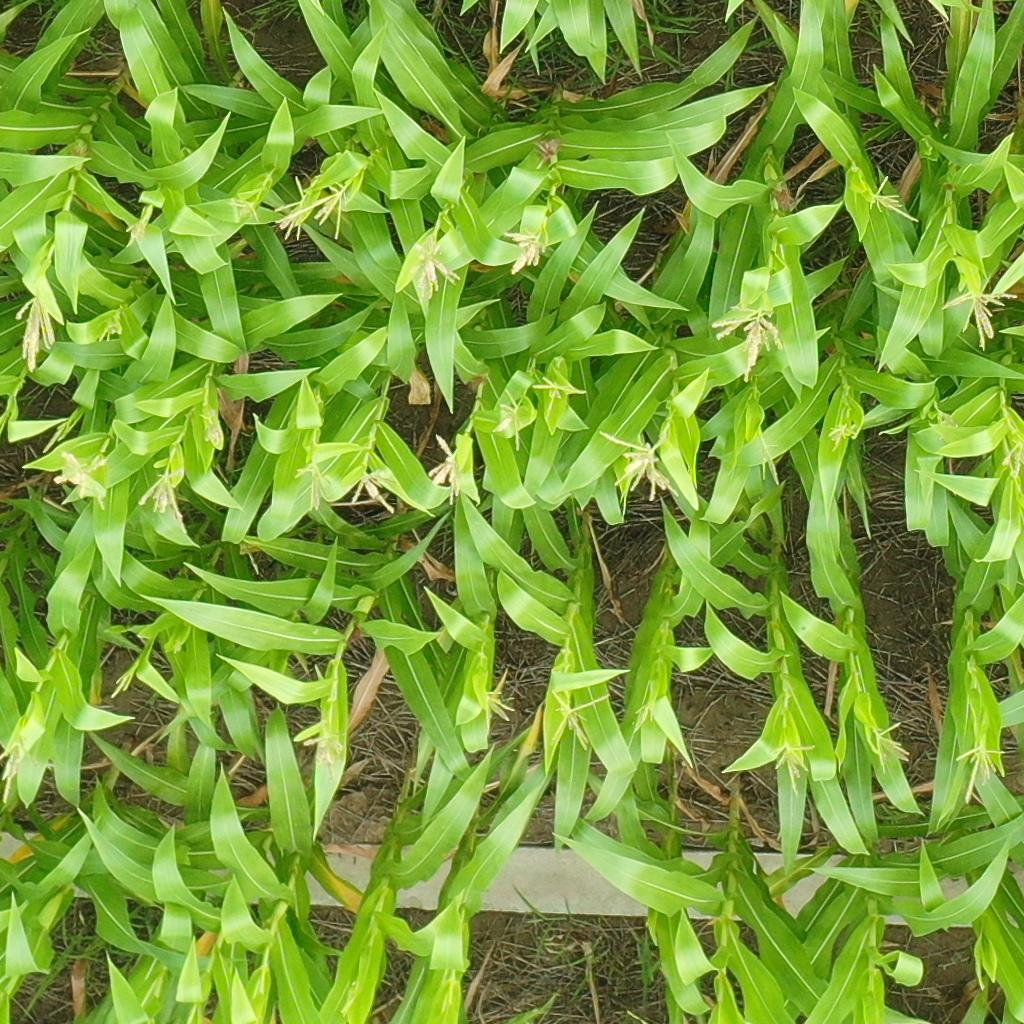Tassel: (596, 422, 680, 503), (710, 299, 784, 382), (940, 281, 1017, 349), (275, 178, 356, 236), (407, 205, 457, 295), (8, 290, 57, 377), (136, 462, 194, 529), (956, 735, 1009, 807), (548, 688, 611, 748), (53, 450, 112, 513), (861, 174, 919, 226), (428, 433, 467, 507), (295, 717, 348, 771), (531, 372, 587, 419), (352, 462, 400, 516), (870, 718, 913, 773), (772, 740, 817, 791), (295, 456, 335, 513), (277, 172, 309, 240), (502, 228, 547, 276), (495, 389, 527, 450), (755, 431, 785, 486), (1, 733, 23, 803), (480, 688, 517, 729), (123, 205, 155, 252), (629, 691, 660, 735), (226, 197, 265, 226), (826, 421, 859, 452), (44, 419, 72, 453), (112, 662, 136, 700), (933, 405, 958, 441), (1000, 438, 1024, 475), (201, 407, 222, 449), (98, 310, 123, 345), (440, 969, 457, 1016)
